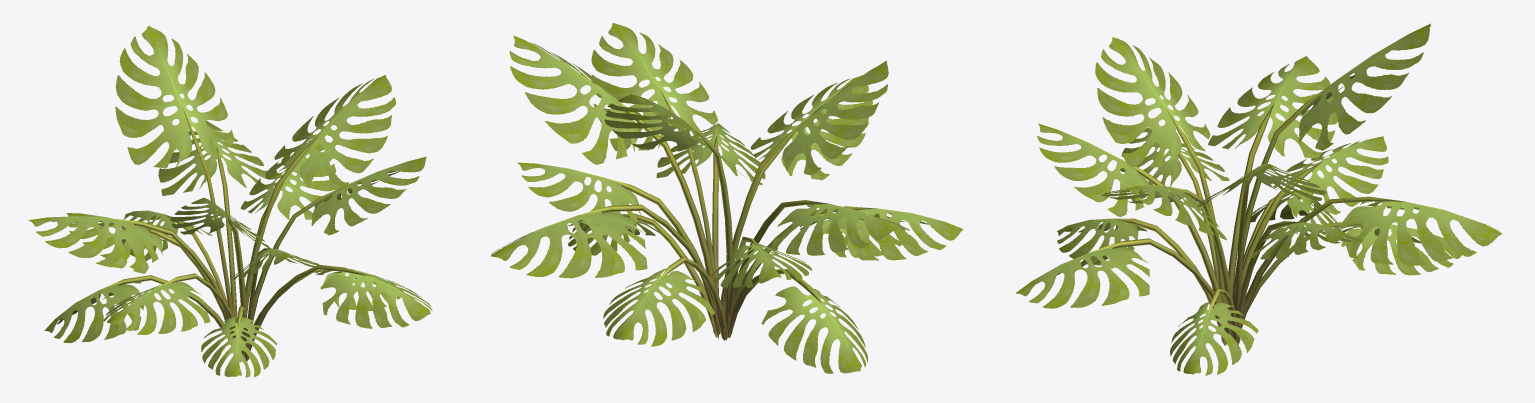
The model's file is monstera.fbx.
The picture shows the model from 3 angles, left to right: view 1: azimuth 30°, elevation 25°; view 2: azimuth 150°, elevation 25°; view 3: azimuth 270°, elevation 25°; orthographic projection. The views are drawn at different scales.
Visible parts, largest first — view 1: stylizedtropical01_1, stylizedtropical01_0; view 2: stylizedtropical01_1, stylizedtropical01_0; view 3: stylizedtropical01_1, stylizedtropical01_0.
Boxes of the visible parts, x1,y1,x2,y2 form: stylizedtropical01_1: (28,26,432,377); stylizedtropical01_0: (100,109,368,362); stylizedtropical01_1: (490,23,963,373); stylizedtropical01_0: (578,89,876,340); stylizedtropical01_1: (1016,23,1501,375); stylizedtropical01_0: (1092,79,1404,345).
Bounding box in the file's own units: 163 × 117 × 169.
1 material, 1 textured.
